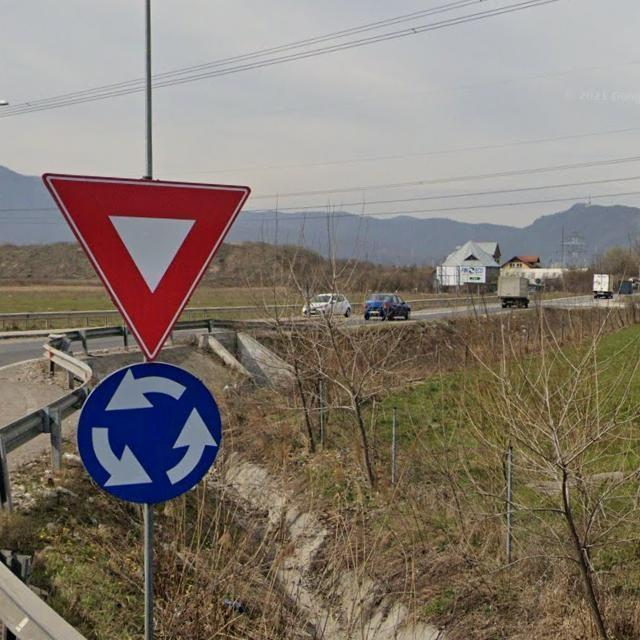prio_give_way: (41, 171, 249, 357)
